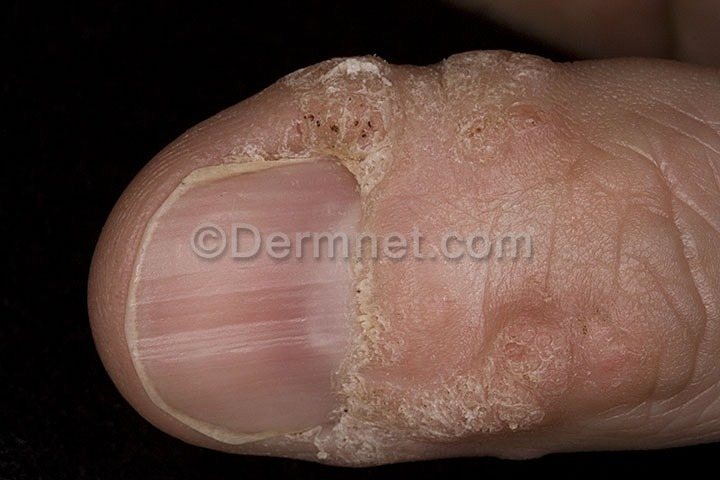Warts: (341, 313, 575, 447)
